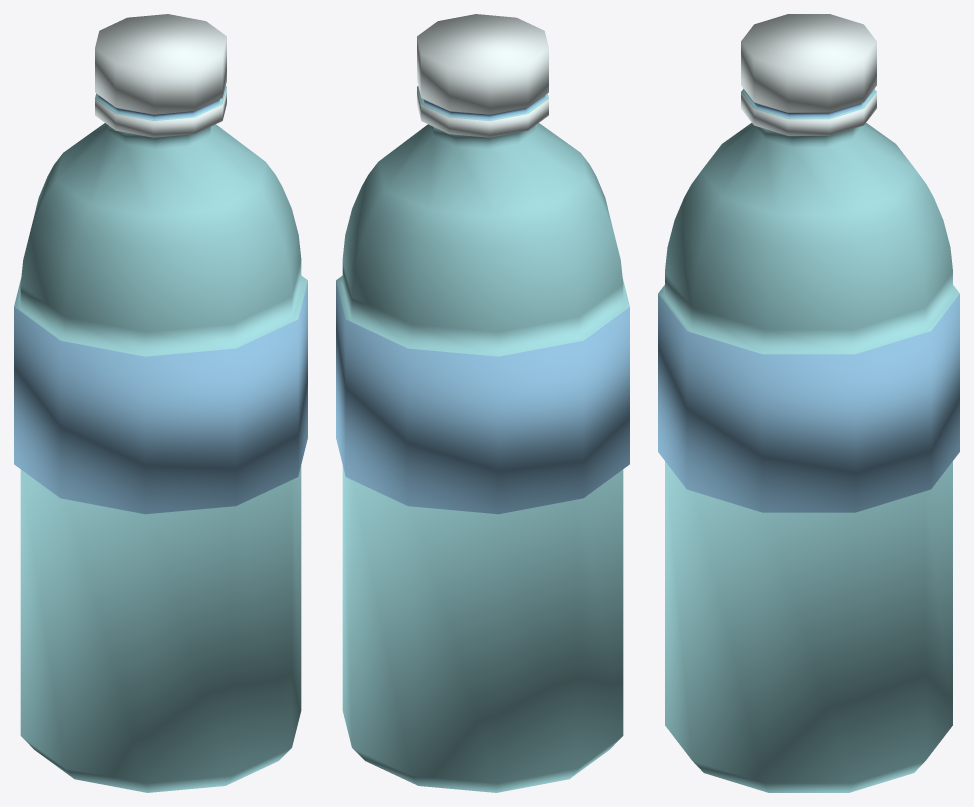
The model's file is plasticBottle.fbx.
3 renders of one model, left to right at view 1: azimuth 30°, elevation 25°; view 2: azimuth 150°, elevation 25°; view 3: azimuth 270°, elevation 25°, orthographic.
Visible parts, largest first — view 1: 円; view 2: 円; view 3: 円.
Part boxes in pixels (x1,y1,x2,y2): 円: (14, 14, 307, 792); 円: (336, 14, 629, 792); 円: (658, 14, 959, 792).
Size of the model in its own units: 0.6973 by 1.87 by 0.7332.
